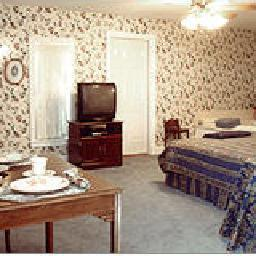Cama: (163, 137, 254, 195)
Puerta: (110, 37, 151, 154)
